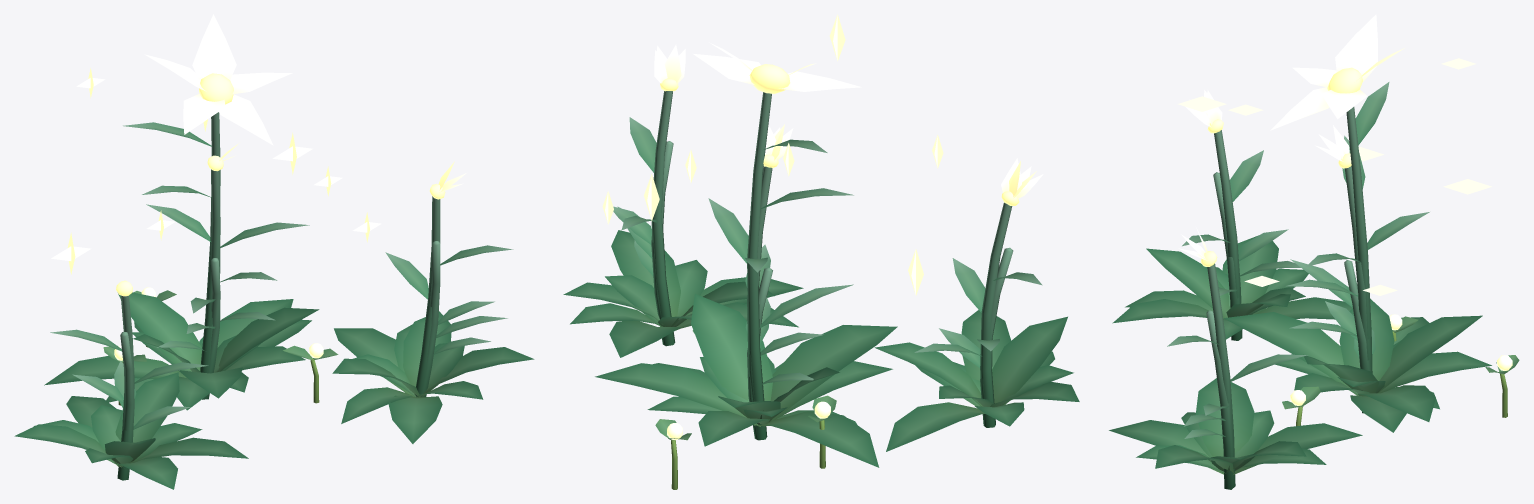
File: crop_star-flower.glb
The picture shows the model from 3 angles, left to right: view 1: azimuth 30°, elevation 25°; view 2: azimuth 150°, elevation 25°; view 3: azimuth 270°, elevation 25°; orthographic projection. The views are drawn at different scales.
Parts seen in each view (by area): view 1: stage3, stage2, stage1, stage0; view 2: stage3, stage2, stage1, stage0; view 3: stage3, stage2, stage1, stage0.
Boxes of the visible parts, x1,y1,x2,y2 form: stage3: (14, 14, 534, 480); stage2: (33, 143, 494, 489); stage1: (106, 258, 262, 402); stage0: (103, 287, 338, 405); stage3: (563, 14, 1079, 467); stage2: (570, 124, 1073, 446); stage1: (647, 267, 857, 439); stage0: (655, 330, 836, 489); stage3: (1109, 14, 1491, 475); stage2: (1125, 125, 1491, 489); stage1: (1275, 260, 1439, 413); stage0: (1282, 314, 1519, 426).
Bounding box in the file's own units: 1.19 × 0.8815 × 0.8659.
